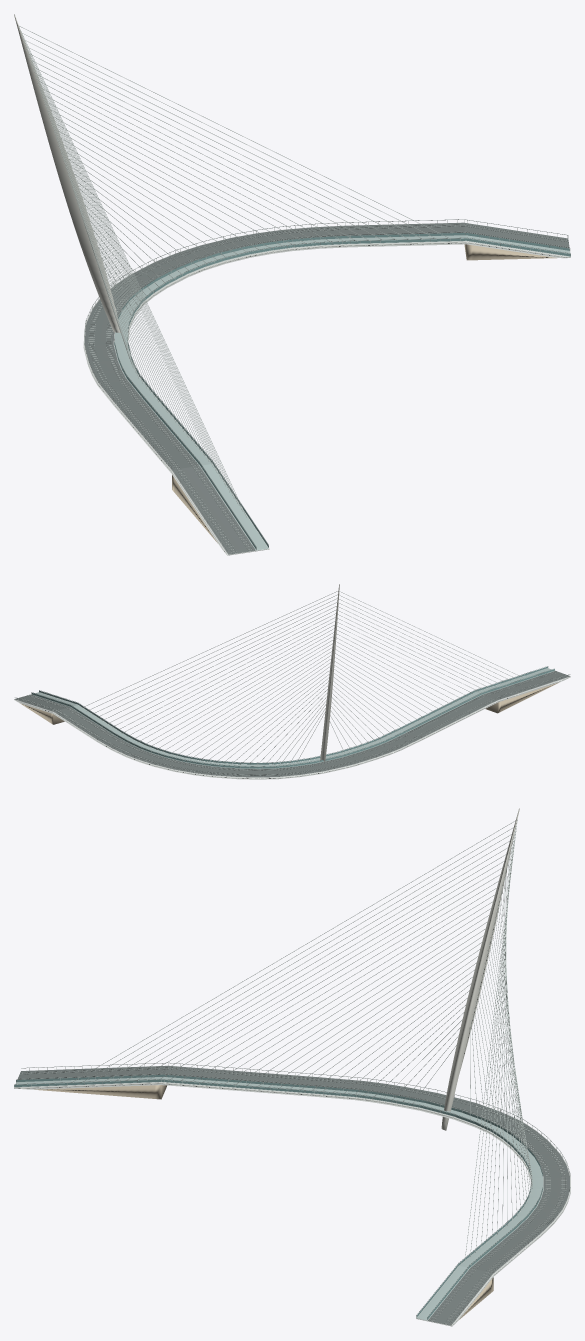
The model's file is chords-bridge-near.glb.
The picture shows the model from 3 angles, top to bottom: view 1: azimuth 30°, elevation 25°; view 2: azimuth 150°, elevation 25°; view 3: azimuth 270°, elevation 25°; orthographic projection. The views are drawn at different scales.
Parts seen in each view (by area): view 1: chords-bridge-0-cable, chords-bridge-0-bed, chords-bridge-0-walk, chords-bridge-0-rail, chords-bridge-0-tower, chords-bridge-0-glass, chords-bridge-0-deck, chords-bridge-0-fittings, chords-bridge-0-stone; view 2: chords-bridge-0-cable, chords-bridge-0-bed, chords-bridge-0-rail, chords-bridge-0-walk, chords-bridge-0-glass, chords-bridge-0-deck, chords-bridge-0-fittings, chords-bridge-0-tower, chords-bridge-0-stone; view 3: chords-bridge-0-cable, chords-bridge-0-bed, chords-bridge-0-walk, chords-bridge-0-rail, chords-bridge-0-glass, chords-bridge-0-deck, chords-bridge-0-tower, chords-bridge-0-stone, chords-bridge-0-fittings.
Boxes of the visible parts, x1,y1,x2,y2 form: chords-bridge-0-cable: (19, 26, 449, 517); chords-bridge-0-bed: (85, 222, 569, 554); chords-bridge-0-walk: (114, 235, 570, 550); chords-bridge-0-rail: (84, 219, 570, 553); chords-bridge-0-tower: (14, 14, 120, 332); chords-bridge-0-glass: (114, 233, 570, 549); chords-bridge-0-deck: (83, 222, 570, 555); chords-bridge-0-fittings: (84, 220, 570, 554); chords-bridge-0-stone: (172, 244, 556, 543); chords-bridge-0-cable: (82, 591, 522, 764); chords-bridge-0-bed: (15, 671, 569, 777); chords-bridge-0-rail: (15, 666, 570, 775); chords-bridge-0-walk: (31, 668, 554, 768); chords-bridge-0-glass: (32, 666, 554, 768); chords-bridge-0-deck: (14, 672, 570, 779); chords-bridge-0-fittings: (18, 666, 565, 776); chords-bridge-0-tower: (320, 584, 339, 761); chords-bridge-0-stone: (20, 682, 559, 724); chords-bridge-0-cable: (71, 819, 532, 1261); chords-bridge-0-bed: (17, 1065, 569, 1325); chords-bridge-0-walk: (14, 1077, 543, 1320); chords-bridge-0-rail: (14, 1062, 570, 1324); chords-bridge-0-glass: (14, 1074, 543, 1319); chords-bridge-0-deck: (14, 1065, 570, 1326); chords-bridge-0-tower: (441, 808, 519, 1130); chords-bridge-0-stone: (34, 1085, 493, 1319); chords-bridge-0-fittings: (14, 1063, 570, 1325).
Bounding box in the file's own units: 222 × 118 × 205.
